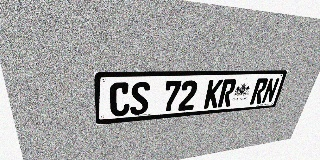2: (178, 80, 198, 111)
7: (161, 81, 182, 112)
C: (110, 82, 130, 117)
K: (203, 79, 223, 109)
N: (261, 78, 280, 103)
R: (217, 79, 237, 107), (249, 78, 269, 104)
S: (130, 81, 150, 115)
